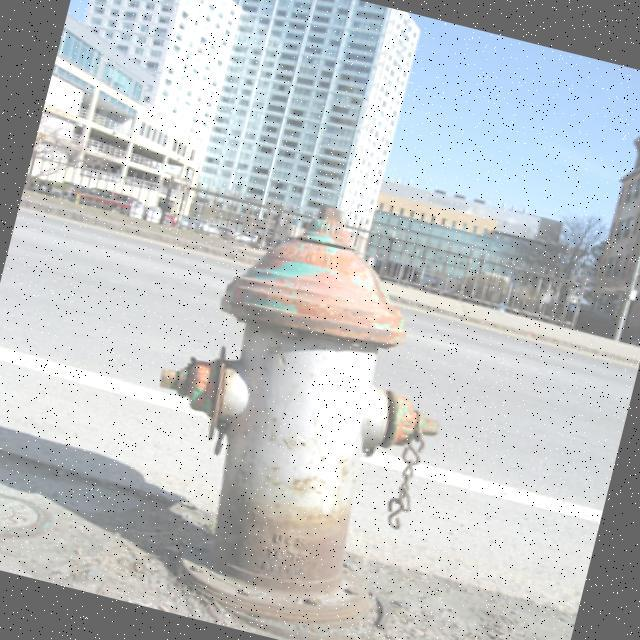fire_hydrant: (105, 176, 483, 640)
